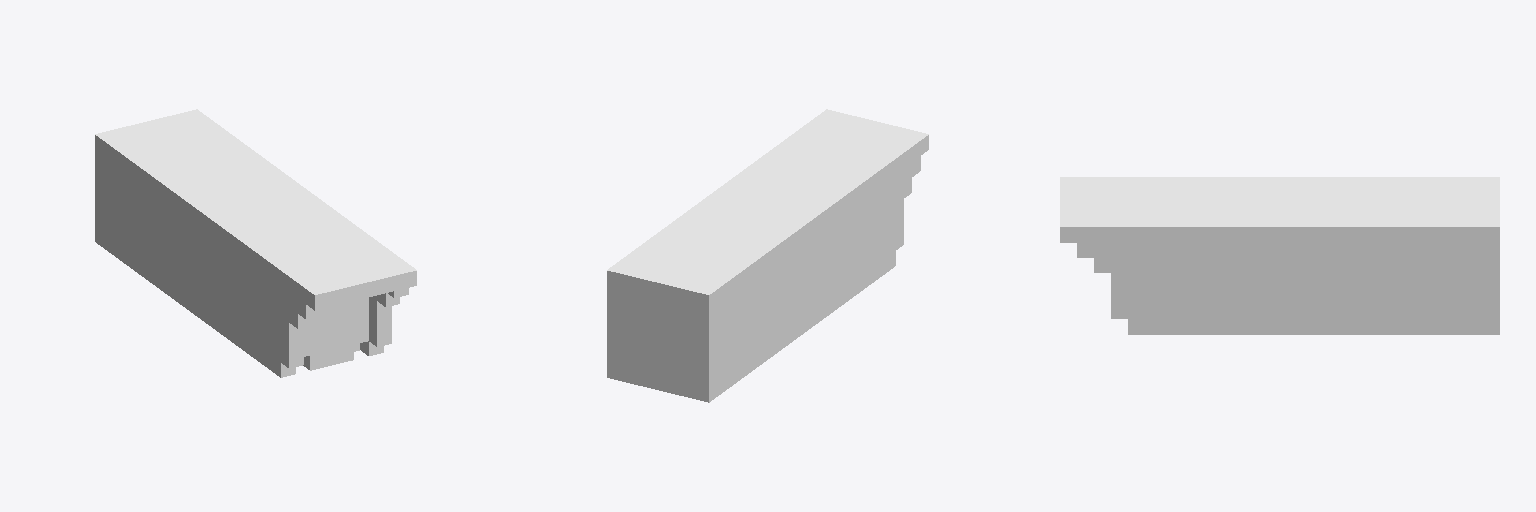
The model's file is camaraTorreta.obj.
3 views of the same model, side by side, from view 1: azimuth 30°, elevation 25°; view 2: azimuth 150°, elevation 25°; view 3: azimuth 270°, elevation 25° (orthographic).
Visible parts, largest first — view 1: camaraTorreta; view 2: camaraTorreta; view 3: camaraTorreta.
Boxes of the visible parts, box(x1,y1,x2,y2) form: camaraTorreta: box(95, 109, 416, 377); camaraTorreta: box(607, 109, 928, 402); camaraTorreta: box(1060, 177, 1499, 334).
Size of the model in its own units: 7 by 7 by 26.